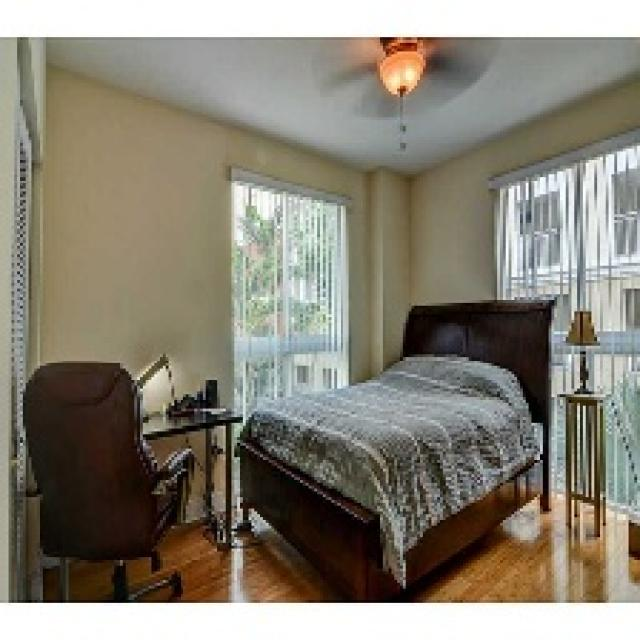Bed: (234, 294, 557, 600)
